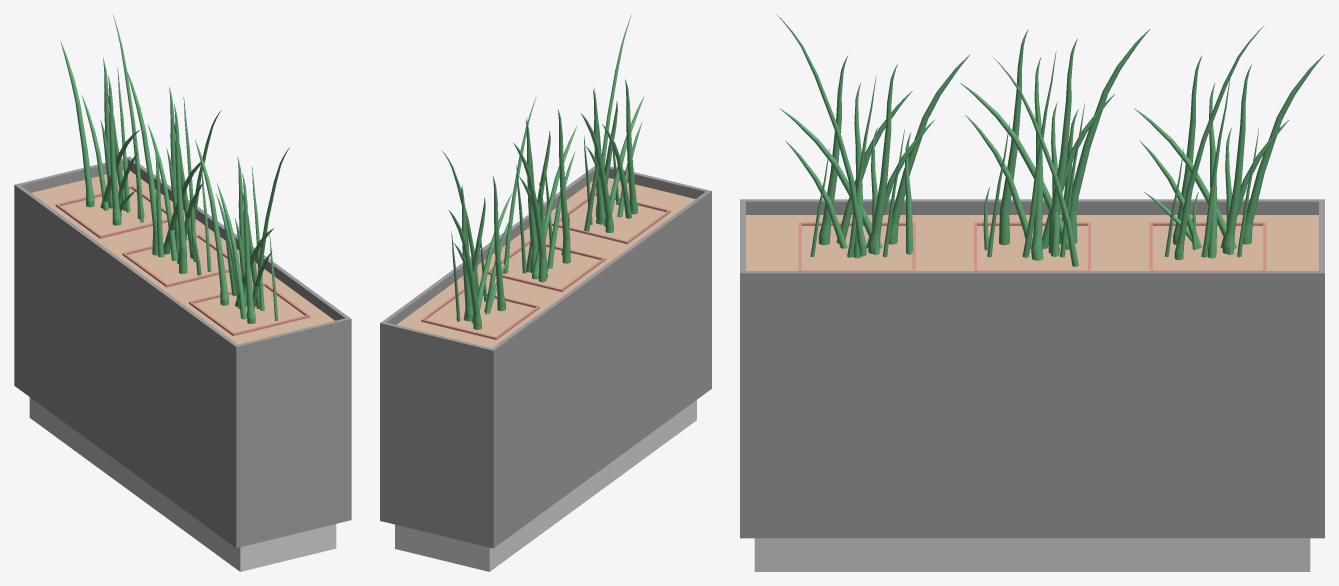
The model's file is plant.fbx.
The picture shows the model from 3 angles, left to right: view 1: azimuth 30°, elevation 25°; view 2: azimuth 150°, elevation 25°; view 3: azimuth 270°, elevation 25°; orthographic projection. The views are drawn at different scales.
Parts seen in each view (by area): view 1: Cube, Cylinder.019, Cube.002, Cube.003, Cube.001; view 2: Cube, Cylinder.019, Cube.002, Cube.003, Cube.001; view 3: Cube, Cylinder.019, Cube.002, Cube.003, Cube.001.
Part boxes in pixels (x1,y1,x2,y2): Cube: (14, 156, 351, 547); Cylinder.019: (60, 14, 289, 323); Cube.002: (31, 170, 334, 344); Cube.003: (29, 397, 336, 571); Cube.001: (55, 185, 310, 335); Cube: (380, 165, 711, 548); Cylinder.019: (441, 14, 644, 329); Cube.002: (396, 178, 695, 348); Cube.003: (395, 400, 696, 571); Cube.001: (421, 192, 670, 339); Cube: (740, 199, 1324, 538); Cylinder.019: (776, 14, 1324, 266); Cube.002: (746, 215, 1318, 270); Cube.003: (754, 538, 1310, 571); Cube.001: (798, 222, 1266, 270).
Bounding box in the file's own units: 120 × 403 × 400.
